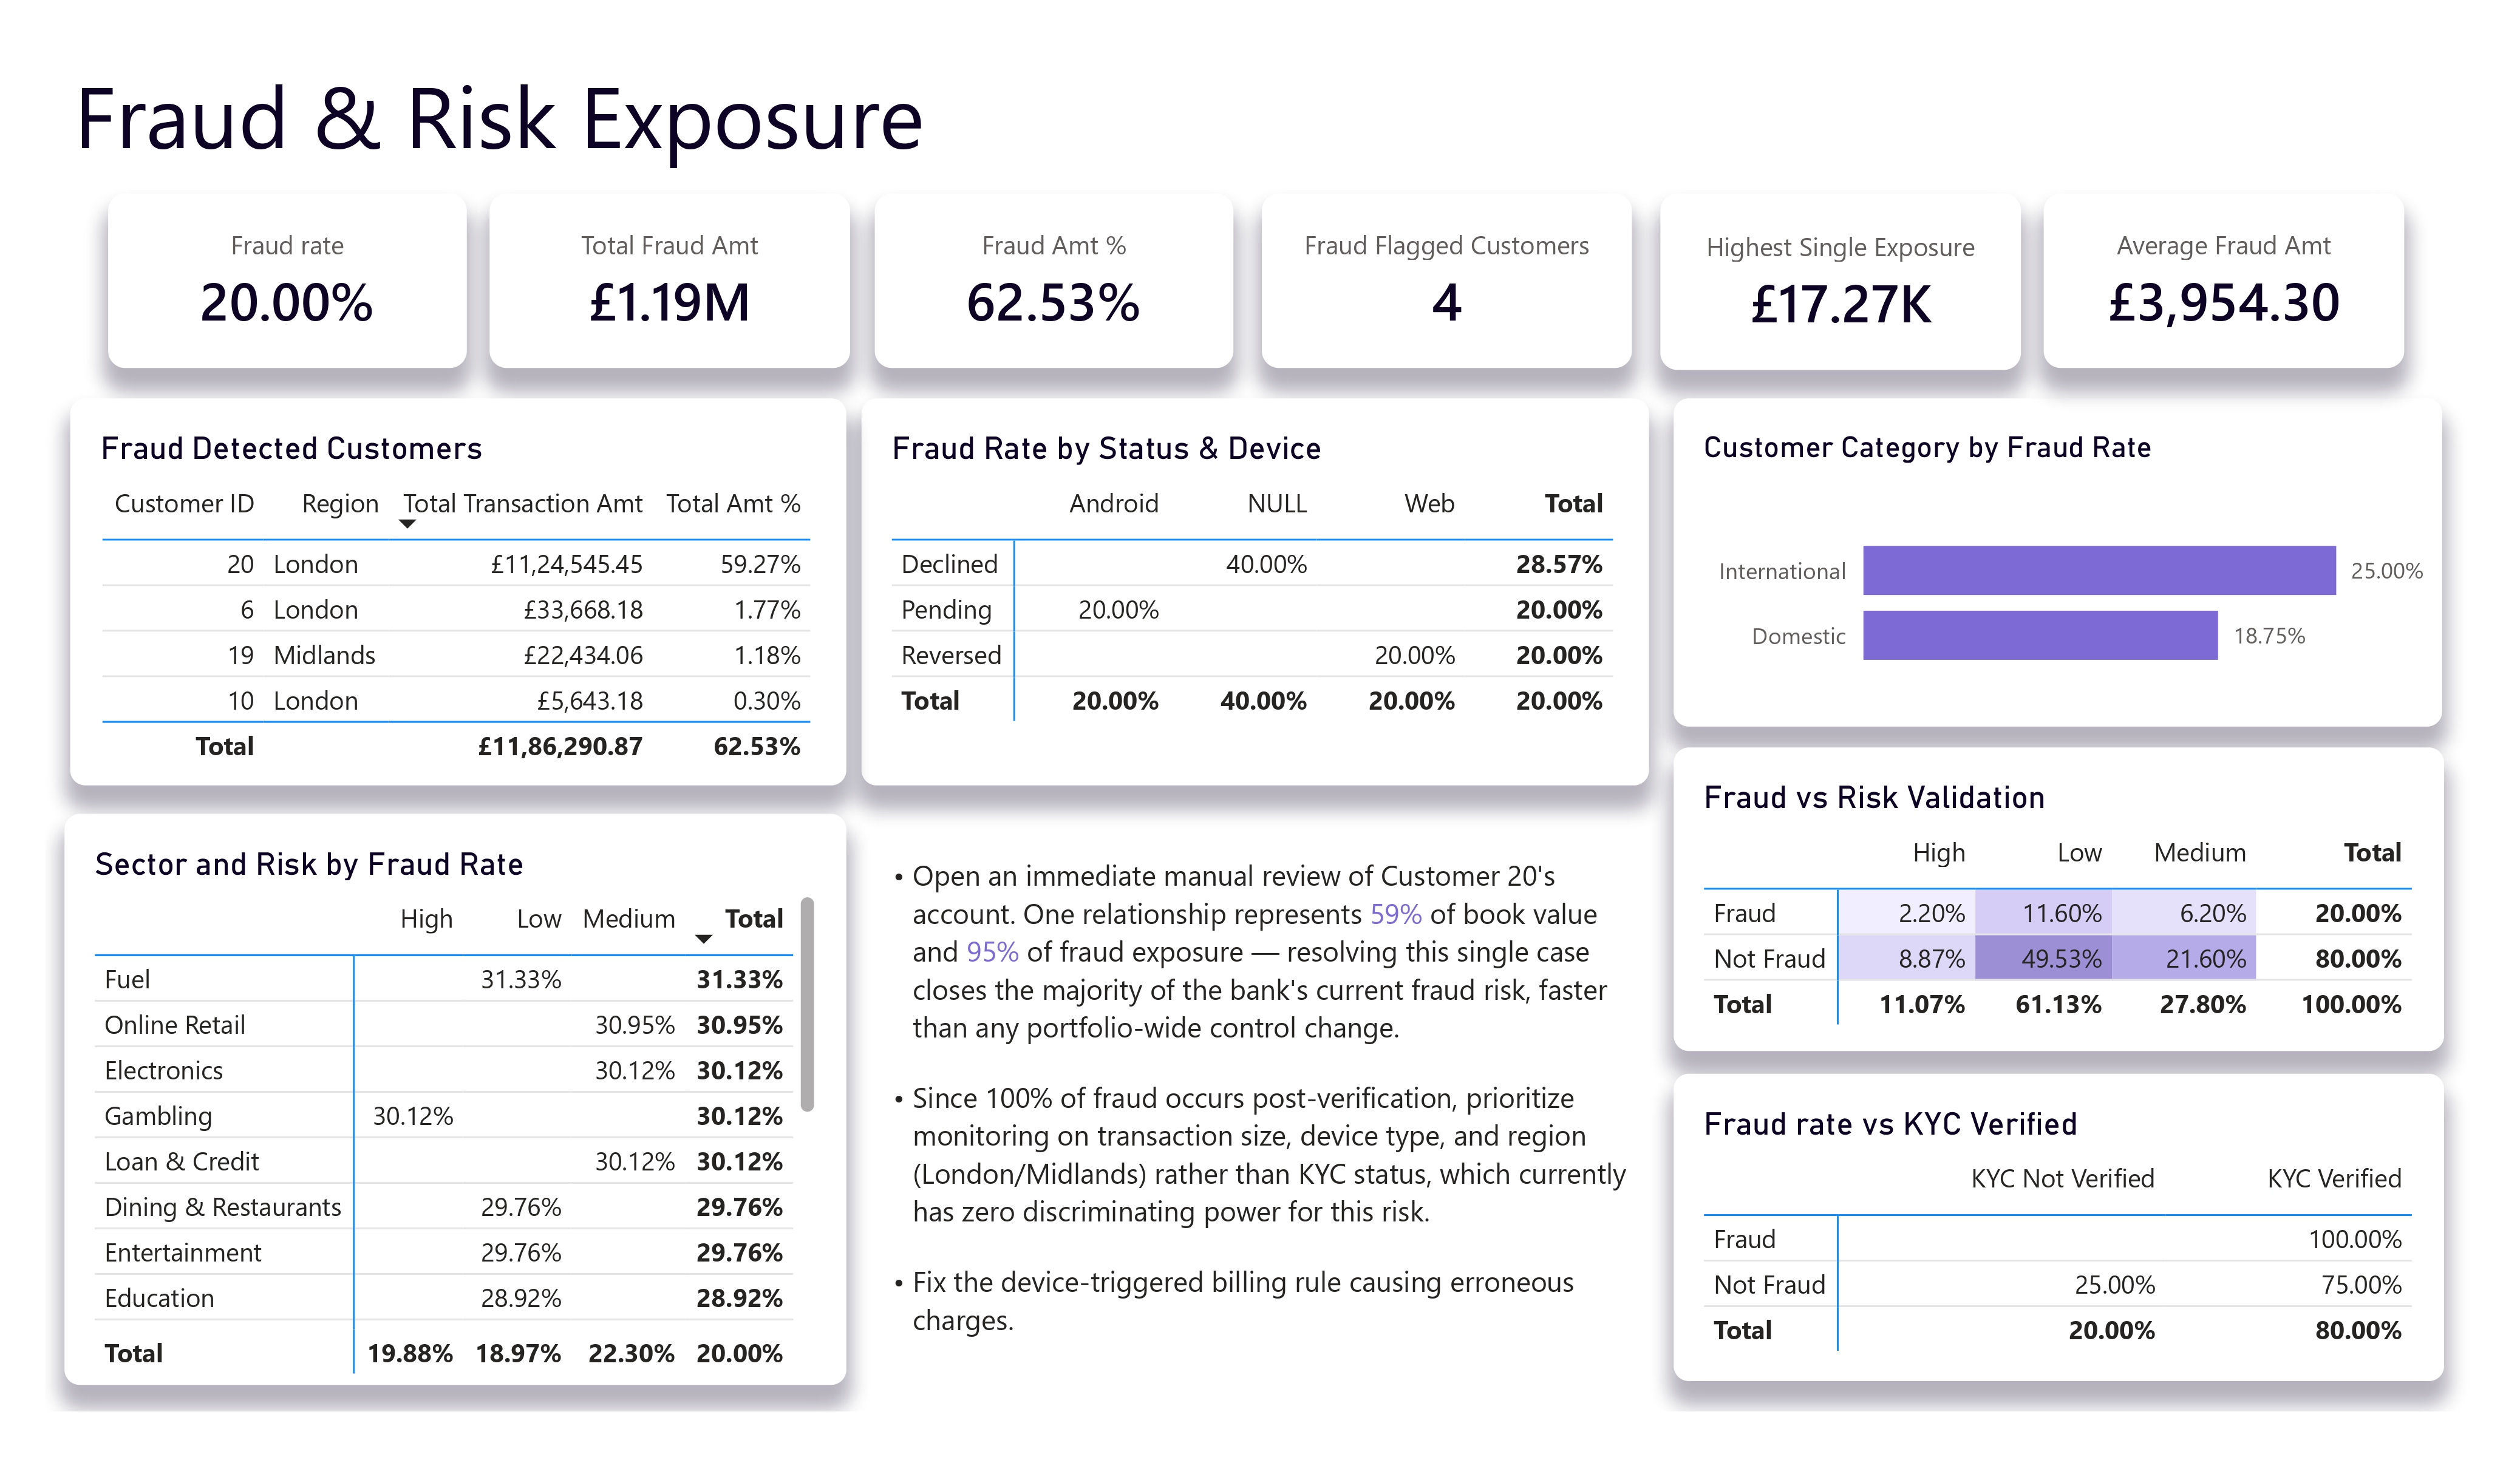

Layout of this report page (visuals, bound fields, positions):
{"tool":"powerbi","page":{"name":"Fraud & Risk Exposure","canvas":[1280,720],"ordinal":3},"visuals":[{"type":"textbox","title":"Fraud & Risk Exposure","box":[10.3,0,787.6,67.6],"z":0},{"type":"cardVisual","fields":{"Data":["Measure table.Fraud rate"]},"box":[32.9,77.8,189.6,92.6],"z":1000},{"type":"cardVisual","fields":{"Data":["Measure table.Total Fraud Amt"]},"box":[234.2,77.8,189.6,92.6],"z":2000},{"type":"cardVisual","fields":{"Data":["Measure table.Fraud Amt %"]},"box":[436.9,77.8,189.6,92.6],"z":3000},{"type":"cardVisual","fields":{"Data":["Measure table.Fraud Flagged Customers"]},"box":[640.7,77.9,195.4,92.6],"z":4000},{"type":"cardVisual","fields":{"Data":["Measure table.Highest Single Exposure"]},"box":[851.2,78.5,189.6,92.6],"z":5000},{"type":"pivotTable","title":"Fraud Rate by Status & Device","fields":{"Columns":["zephyr.device_type"],"Rows":["zephyr.transaction_status"],"Values":["Measure table.Fraud rate"]},"box":[430,186.5,414.9,203.3],"z":6000},{"type":"tableEx","title":"Fraud Detected Customers ","fields":{"Values":["zephyr.customer_id","zephyr.region","Measure table.Total Transaction Amt","Measure table.Total Amt %"]},"box":[13.4,186.5,408.2,203.3],"z":7000},{"type":"clusteredBarChart","title":"Customer Category by Fraud Rate","fields":{"Category":["zephyr.Domestic"],"Y":["Measure table.Fraud rate"]},"box":[858.4,186.5,404.8,173],"z":8000},{"type":"pivotTable","title":"Fraud vs Risk Validation","fields":{"Columns":["zephyr.risk_flag"],"Values":["CountNonNull(zephyr.is_flagged_fraud)"],"Rows":["zephyr.Fraud Category"]},"box":[858.1,370.3,405.6,160.2],"z":9000},{"type":"pivotTable","title":"Fraud rate vs KYC Verified","fields":{"Rows":["zephyr.Fraud Category"],"Columns":["zephyr.KYC Verified Category"],"Values":["CountNonNull(zephyr.is_flagged_fraud)"]},"box":[858.1,542.2,405.6,161.6],"z":10000},{"type":"pivotTable","title":"Sector and Risk by Fraud Rate","fields":{"Columns":["zephyr.risk_flag"],"Rows":["zephyr.category_name"],"Values":["Measure table.Fraud rate"]},"box":[10.1,404.8,411.5,300.7],"z":11000},{"type":"cardVisual","fields":{"Data":["Measure table.Average Fraud Amt"]},"box":[1053,77.9,189.8,92.4],"z":12000},{"type":"textbox","box":[430,405,415,301],"z":12001}]}

Visuals, with their boxes on the page's 1280x720 design canvas (x1, y1, x2, y2). These are canvas units, not pixel positions in the 2520x1457 screenshot, which may show the page scaled, cropped or inside an application window:
"Fraud & Risk Exposure" textbox: pyautogui.locateOnScreen(10, 0, 798, 68)
cardVisual - Measure table.Fraud rate: pyautogui.locateOnScreen(33, 78, 222, 170)
cardVisual - Measure table.Total Fraud Amt: pyautogui.locateOnScreen(234, 78, 424, 170)
cardVisual - Measure table.Fraud Amt %: pyautogui.locateOnScreen(437, 78, 626, 170)
cardVisual - Measure table.Fraud Flagged Customers: pyautogui.locateOnScreen(641, 78, 836, 170)
cardVisual - Measure table.Highest Single Exposure: pyautogui.locateOnScreen(851, 78, 1041, 171)
"Fraud Rate by Status & Device" pivotTable: pyautogui.locateOnScreen(430, 186, 845, 390)
"Fraud Detected Customers " tableEx: pyautogui.locateOnScreen(13, 186, 422, 390)
"Customer Category by Fraud Rate" clusteredBarChart: pyautogui.locateOnScreen(858, 186, 1263, 360)
"Fraud vs Risk Validation" pivotTable: pyautogui.locateOnScreen(858, 370, 1264, 530)
"Fraud rate vs KYC Verified" pivotTable: pyautogui.locateOnScreen(858, 542, 1264, 704)
"Sector and Risk by Fraud Rate" pivotTable: pyautogui.locateOnScreen(10, 405, 422, 706)
cardVisual - Measure table.Average Fraud Amt: pyautogui.locateOnScreen(1053, 78, 1243, 170)
textbox: pyautogui.locateOnScreen(430, 405, 845, 706)
